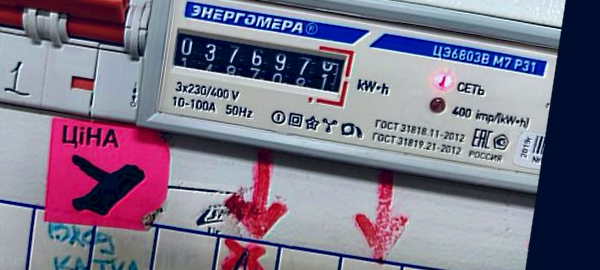0: (179, 35, 195, 57)
1: (318, 71, 331, 90)
3: (203, 41, 218, 62)
6: (249, 45, 265, 67)
7: (296, 54, 312, 77), (226, 42, 241, 65)
9: (273, 50, 288, 73)
screen: (162, 18, 359, 109)
